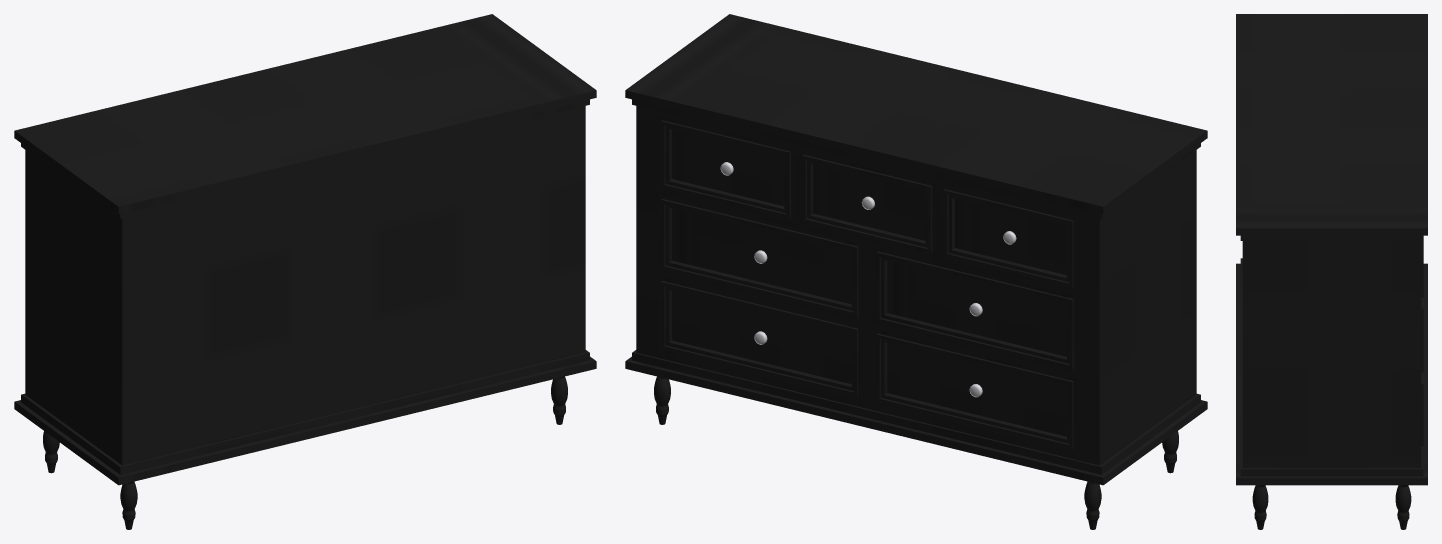
File: Drawer39.glb
The picture shows the model from 3 angles, left to right: view 1: azimuth 30°, elevation 25°; view 2: azimuth 150°, elevation 25°; view 3: azimuth 270°, elevation 25°; orthographic projection. The views are drawn at different scales.
Parts seen in each view (by area): view 1: Drawer39_Body; view 2: Drawer39_Body, Drawer39_4, Drawer39_5, Drawer39_6, Drawer39_7, Drawer39_2, Drawer39_1, Drawer39_3; view 3: Drawer39_Body.
Part boxes in pixels (x1,y1,x2,y2): Drawer39_Body: (14, 14, 596, 529); Drawer39_Body: (625, 14, 1207, 529); Drawer39_4: (659, 194, 861, 320); Drawer39_5: (874, 247, 1076, 372); Drawer39_6: (659, 276, 861, 400); Drawer39_7: (874, 329, 1076, 452); Drawer39_2: (800, 150, 935, 256); Drawer39_1: (659, 116, 794, 222); Drawer39_3: (941, 185, 1076, 291); Drawer39_Body: (1236, 14, 1427, 529).
Bounding box in the file's own units: 3.45 × 2.33 × 1.3.
Materials: 1 (1 with a texture image).
